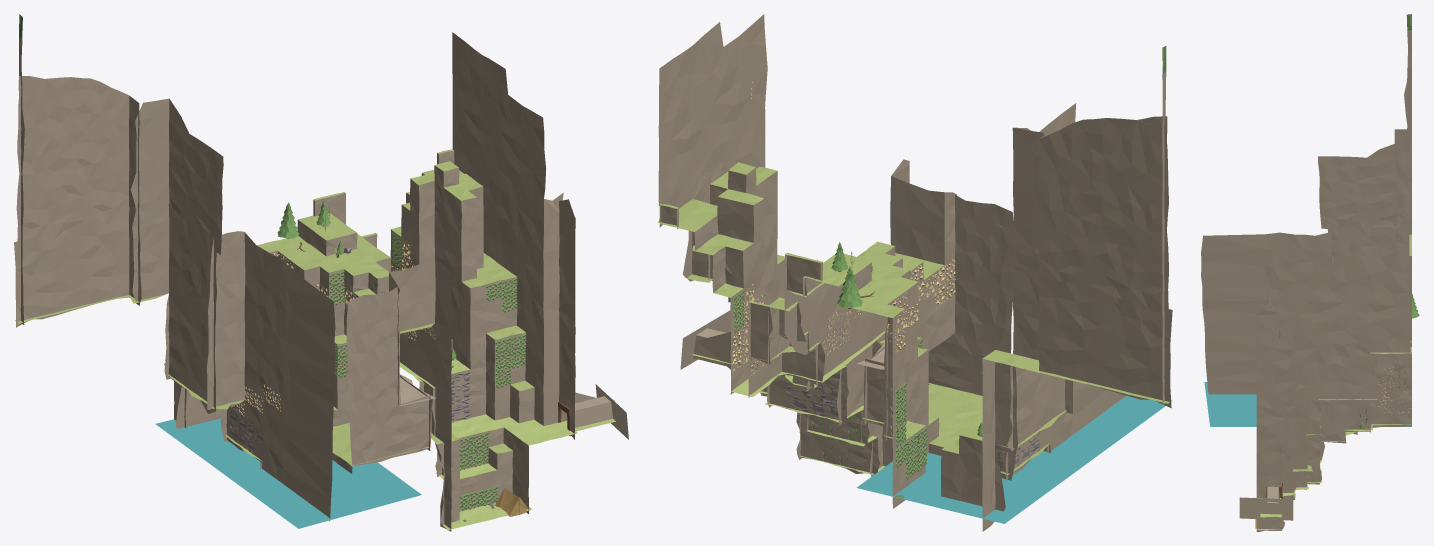
3 renders of one model, left to right at view 1: azimuth 30°, elevation 25°; view 2: azimuth 150°, elevation 25°; view 3: azimuth 270°, elevation 25°, orthographic. The views are drawn at different scales.
Visible parts, largest first — view 1: 5; view 2: 5; view 3: 5.
Boxes of the visible parts, x1=… form: 5: x1=14, y1=14, x2=628, y2=531; 5: x1=657, y1=14, x2=1172, y2=531; 5: x1=1201, y1=14, x2=1419, y2=531.
Bounding box in the file's own units: 32.98 × 32.18 × 16.95.
Materials: 1 (1 with a texture image).
